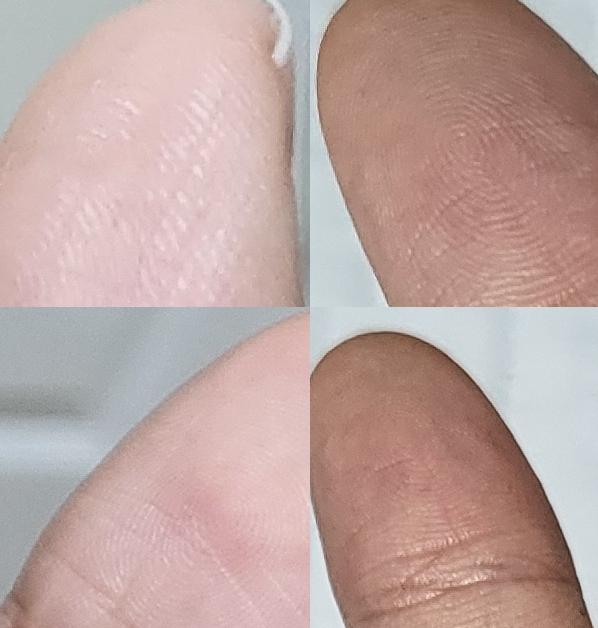Fingerprints: (9, 308, 310, 628), (0, 0, 296, 307), (316, 0, 598, 307), (310, 331, 579, 616)
